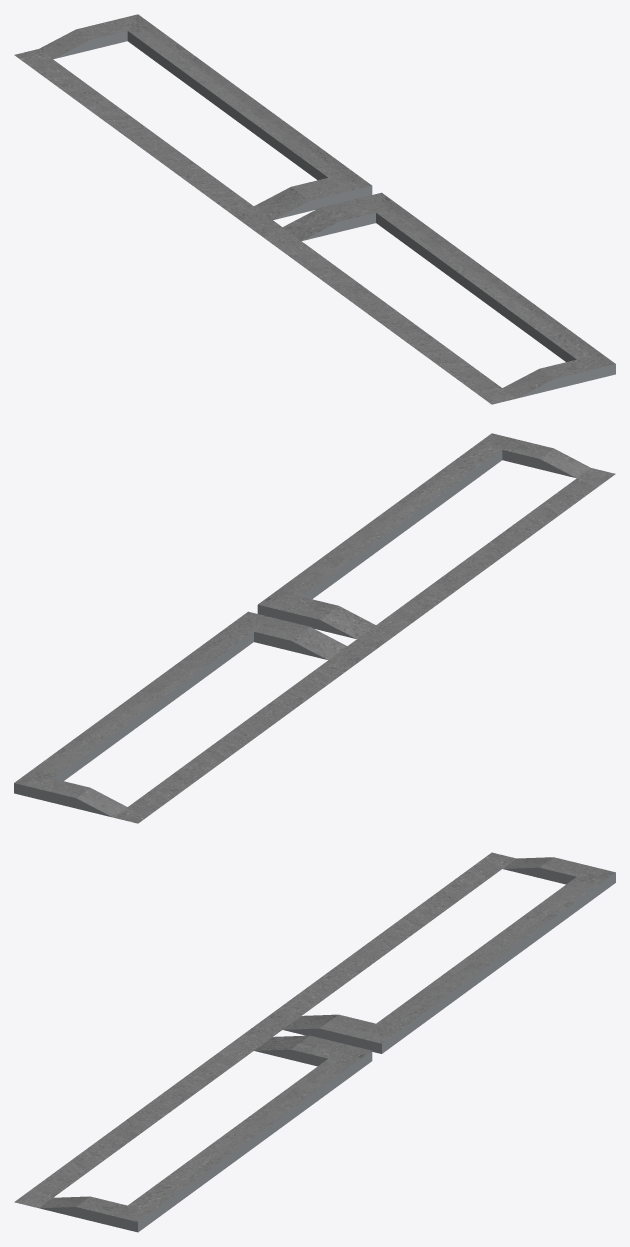
The model's file is floor.fbx.
The picture shows the model from 3 angles, top to bottom: view 1: azimuth 30°, elevation 25°; view 2: azimuth 150°, elevation 25°; view 3: azimuth 330°, elevation 25°; orthographic projection.
Parts seen in each view (by area): view 1: Object.050; view 2: Object.050; view 3: Object.050.
Boxes of the visible parts, left/top/right/bottom form: Object.050: left=14, top=14, right=615, bottom=404; Object.050: left=14, top=433, right=615, bottom=823; Object.050: left=14, top=852, right=615, bottom=1232.
Size of the model in its own units: 1500 by 120 by 10000.
